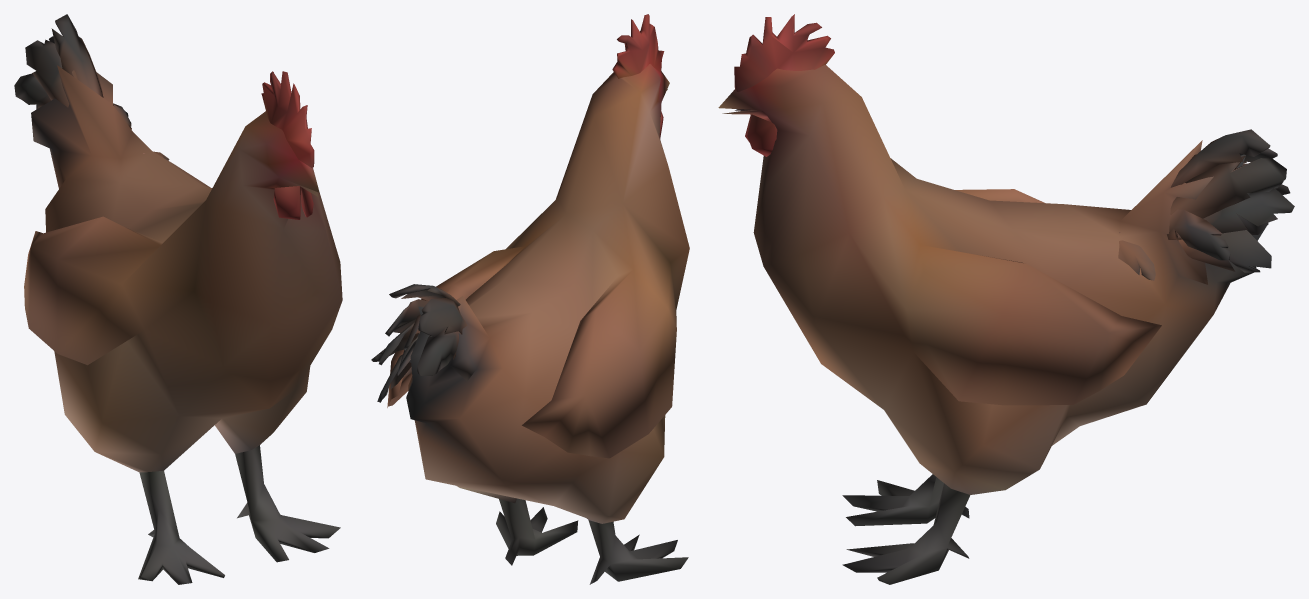
Rendered from chicken.glb.
3 renders of one model, left to right at view 1: azimuth 30°, elevation 25°; view 2: azimuth 150°, elevation 25°; view 3: azimuth 270°, elevation 25°, orthographic. The views are drawn at different scales.
Visible parts, largest first — view 1: models/chicken/chicken.vmdl_c.chicken.008; view 2: models/chicken/chicken.vmdl_c.chicken.008; view 3: models/chicken/chicken.vmdl_c.chicken.008.
Part boxes in pixels (x1,y1,x2,y2): models/chicken/chicken.vmdl_c.chicken.008: (14, 14, 342, 584); models/chicken/chicken.vmdl_c.chicken.008: (371, 14, 689, 584); models/chicken/chicken.vmdl_c.chicken.008: (718, 14, 1294, 584).
Size of the model in its own units: 0.4676 by 0.968 by 0.9563.
